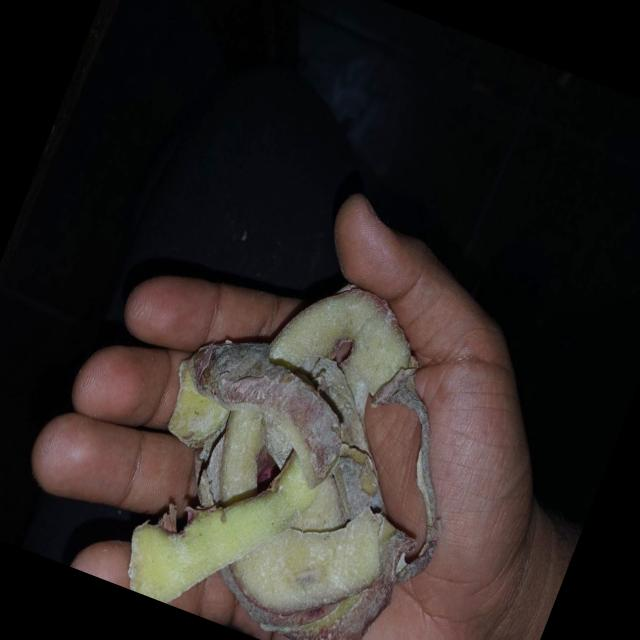organic: (97, 235, 514, 640)
